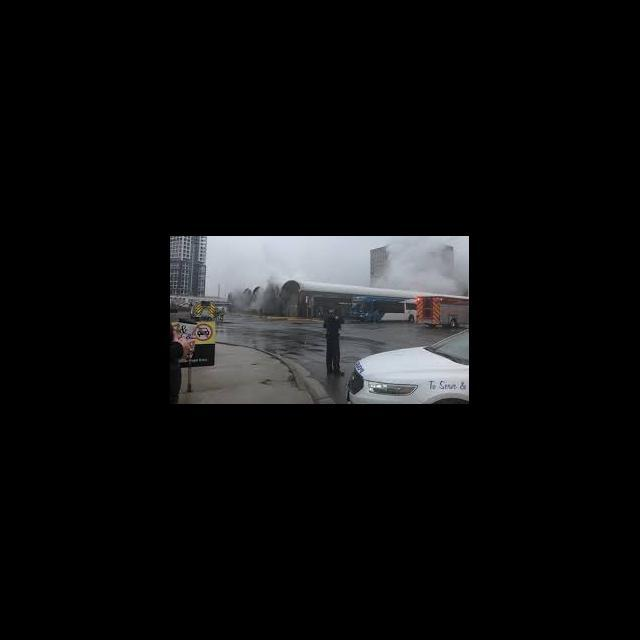Smoke: (379, 238, 468, 295)
